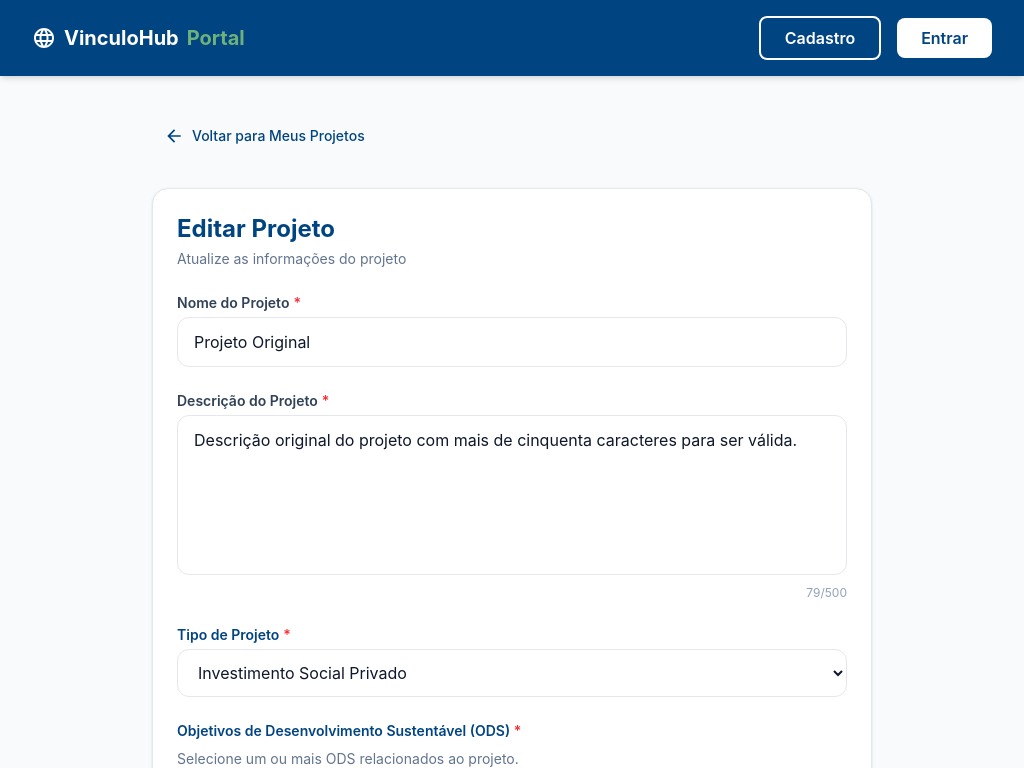
EditProjectPage › exibe o campo de valor ao trocar tipo para Leis de Incentivo
Check: the field showing "Projeto Original" is shown, box [177, 317, 847, 367]
Check: the field labelled "Valor Necessário" is not shown
Select "Leis de Incentivo" in the dropdown at (512, 673), box [177, 649, 847, 697]
(page scrolled)
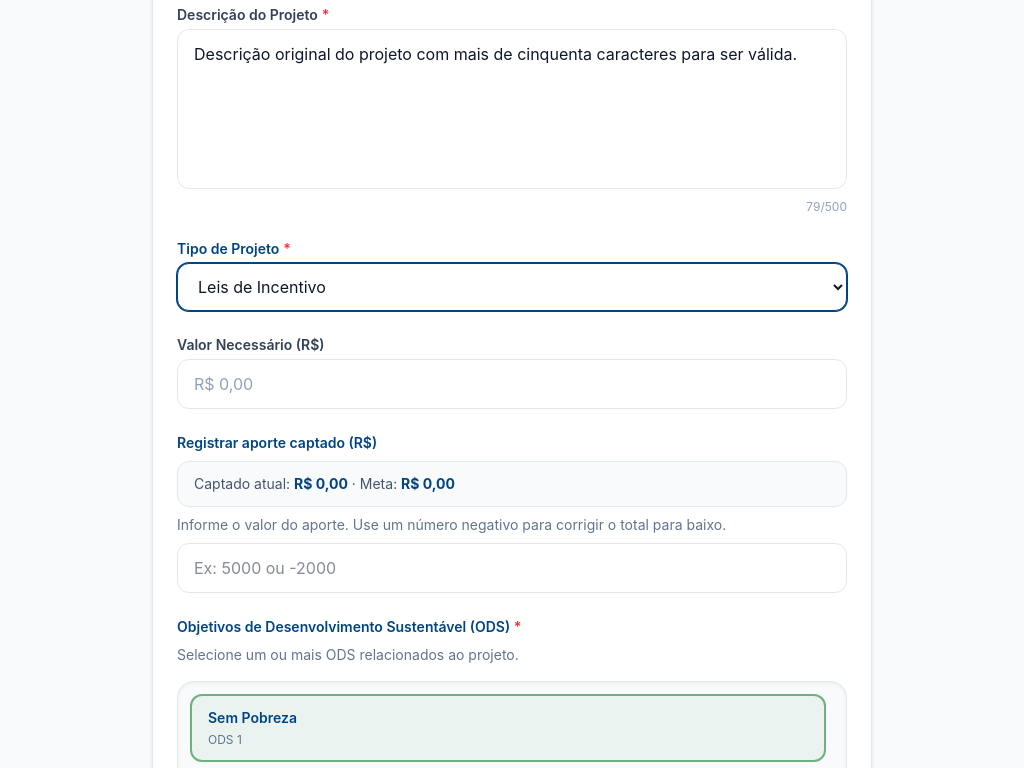
Check: the field labelled "Valor Necessário (R$)" is shown, box [177, 359, 847, 409]
